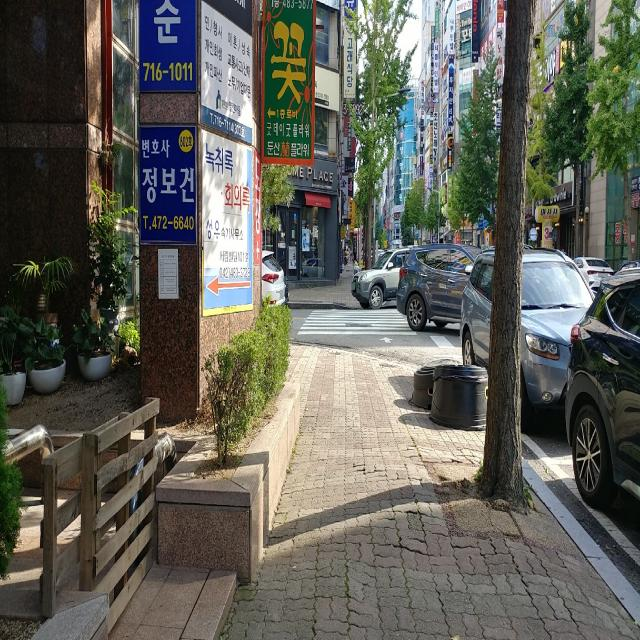횡단보도: (296, 308, 418, 344)
